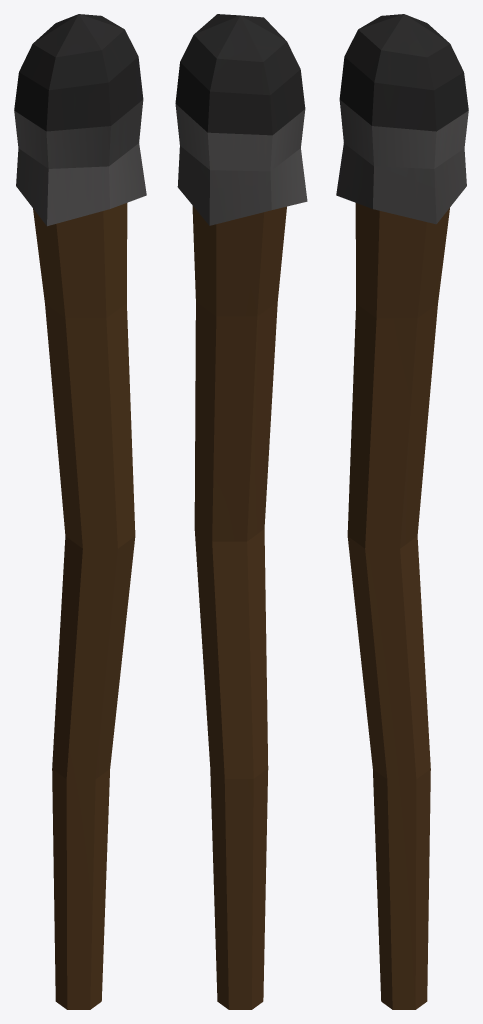
The model's file is Torch.fbx.
3 renders of one model, left to right at view 1: azimuth 90°, elevation 25°; view 2: azimuth 210°, elevation 25°; view 3: azimuth 270°, elevation 25°, orthographic.
Visible parts, largest first — view 1: Torch; view 2: Torch; view 3: Torch.
Part boxes in pixels (box(x1,y1,x2,y2)): Torch: box(14, 14, 146, 1009); Torch: box(175, 14, 307, 1009); Torch: box(336, 14, 468, 1009).
Size of the model in its own units: 4.01 by 37.72 by 4.59.
1 material, 1 textured.
